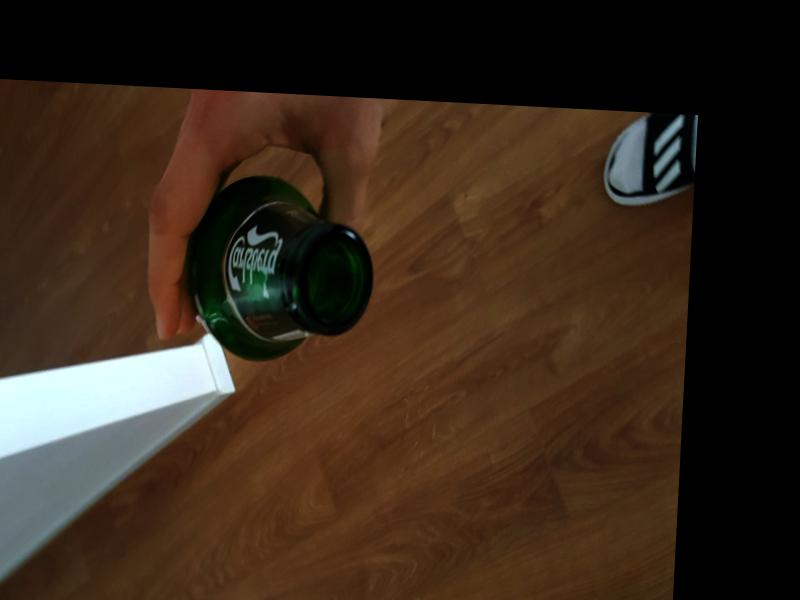Beer: (183, 169, 377, 367)
